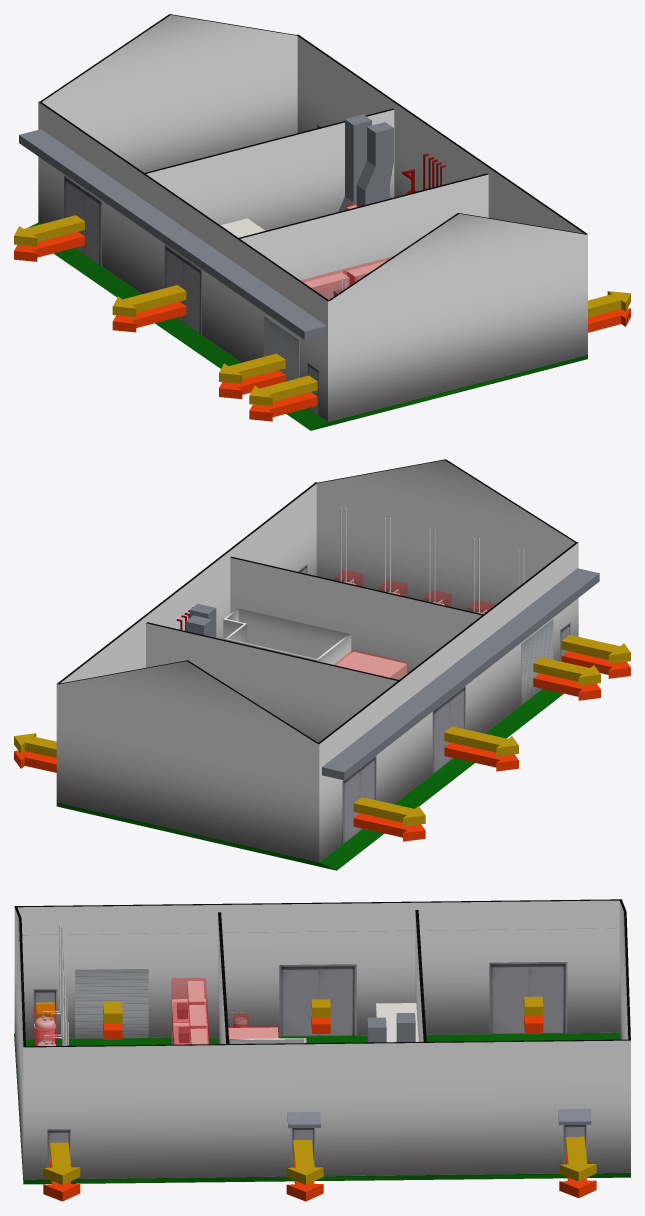
The model's file is soulbrain_UP-6-1F.glb.
3 renders of one model, top to bottom at view 1: azimuth 30°, elevation 25°; view 2: azimuth 150°, elevation 25°; view 3: azimuth 270°, elevation 25°, orthographic. The views are drawn at different scales.
Visible parts, largest first — view 1: Rectangle001, Box639, UP-6-1F, Box638, Box1970, Box640, arrow_Y_3_UP-6-1F, arrow_Y_4_UP-6-1F, arrow_Y_1_UP-6-1F, arrow_Y_2_UP-6-1F, arrow_R_3_UP-6-1F, arrow_R_4_UP-6-1F (+6 smaller); view 2: Rectangle001, Box639, Box638, Box1966, UP-6-1F, Box640, arrow_Y_3_UP-6-1F, equipment-UP-6-1F-014, arrow_Y_4_UP-6-1F, arrow_Y_1_UP-6-1F, Box1965, arrow_Y_2_UP-6-1F (+7 smaller); view 3: Rectangle001, UP-6-1F, Box638, Box640, equipment-UP-6-1F-001, equipment-UP-6-1F-002, Box1970, Box641, arrow_Y_6_UP-6-1F, arrow_Y_5_UP-6-1F, arrow_Y_7_UP-6-1F, equipment-UP-6-1F-006 (+11 smaller).
Boxes of the visible parts, bbox=[...] form: Rectangle001: bbox=[38, 14, 587, 421]; Box639: bbox=[19, 129, 326, 339]; UP-6-1F: bbox=[64, 124, 385, 415]; Box638: bbox=[28, 222, 587, 430]; Box1970: bbox=[338, 114, 393, 211]; Box640: bbox=[263, 315, 299, 381]; arrow_Y_3_UP-6-1F: bbox=[112, 285, 186, 317]; arrow_Y_4_UP-6-1F: bbox=[14, 215, 84, 246]; arrow_Y_1_UP-6-1F: bbox=[249, 375, 317, 406]; arrow_Y_2_UP-6-1F: bbox=[219, 353, 285, 383]; arrow_R_3_UP-6-1F: bbox=[112, 301, 186, 332]; arrow_R_4_UP-6-1F: bbox=[14, 232, 84, 261]; Rectangle001: bbox=[56, 459, 578, 862]; Box639: bbox=[322, 568, 599, 780]; Box638: bbox=[56, 689, 563, 870]; Box1966: bbox=[223, 608, 351, 665]; UP-6-1F: bbox=[298, 564, 570, 843]; Box640: bbox=[521, 619, 553, 705]; arrow_Y_3_UP-6-1F: bbox=[444, 726, 518, 756]; equipment-UP-6-1F-014: bbox=[334, 650, 407, 679]; arrow_Y_4_UP-6-1F: bbox=[353, 797, 425, 826]; arrow_Y_1_UP-6-1F: bbox=[561, 635, 630, 663]; Box1965: bbox=[336, 651, 407, 679]; arrow_Y_2_UP-6-1F: bbox=[533, 657, 600, 685]; Rectangle001: bbox=[14, 899, 630, 1179]; UP-6-1F: bbox=[33, 962, 586, 1179]; Box638: bbox=[14, 1032, 630, 1184]; Box640: bbox=[75, 969, 148, 1038]; equipment-UP-6-1F-001: bbox=[171, 978, 207, 1044]; equipment-UP-6-1F-002: bbox=[173, 1002, 208, 1044]; Box1970: bbox=[367, 1013, 415, 1042]; Box641: bbox=[287, 1109, 591, 1128]; arrow_Y_6_UP-6-1F: bbox=[286, 1139, 323, 1184]; arrow_Y_5_UP-6-1F: bbox=[559, 1136, 596, 1181]; arrow_Y_7_UP-6-1F: bbox=[43, 1142, 80, 1184]; equipment-UP-6-1F-006: bbox=[33, 1004, 56, 1045].
Size of the model in its own units: 19.45 by 8.23 by 23.47.
28 materials, 15 textured.
